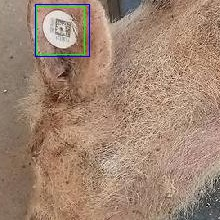text: (36, 6, 84, 54)
